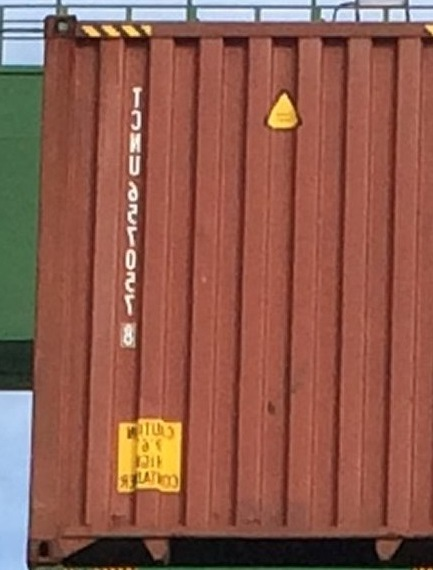container_no_door: (25, 18, 433, 566)
